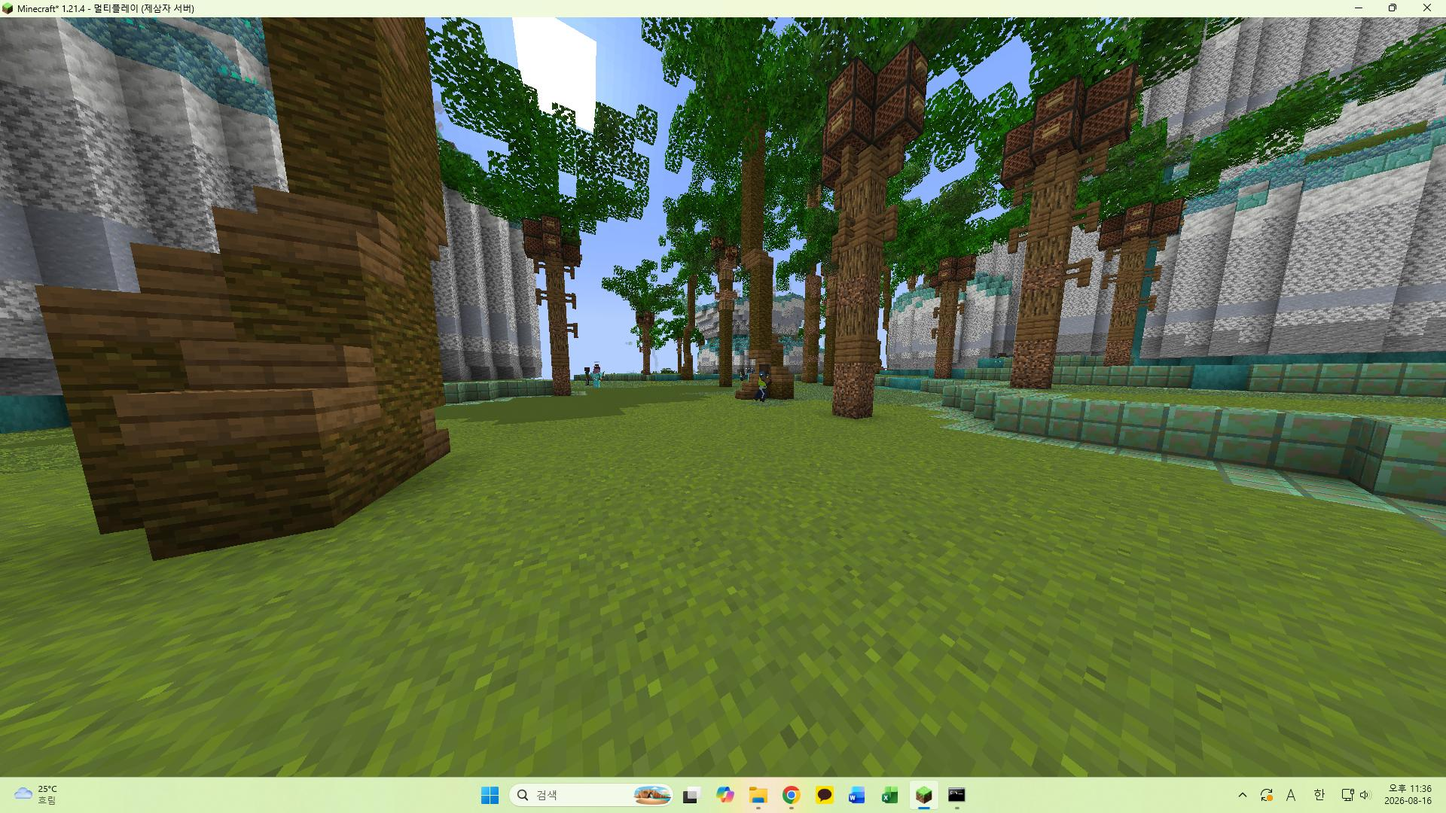Guardian: (755, 363, 772, 403)
